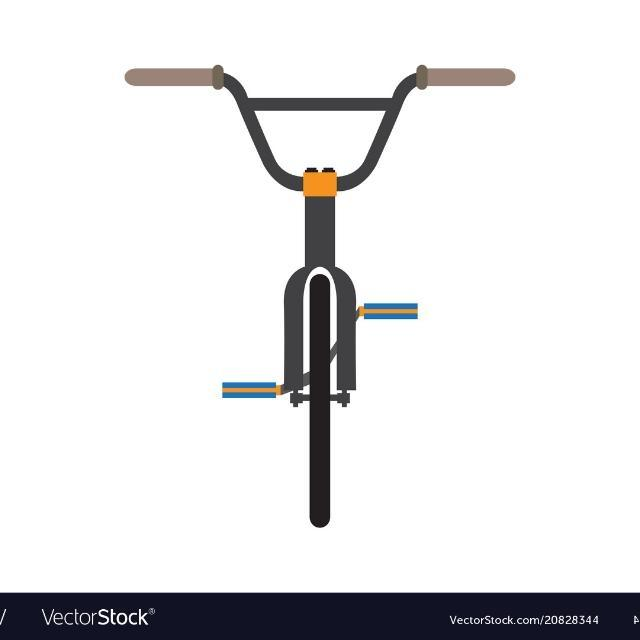obstacle: (110, 51, 536, 544)
